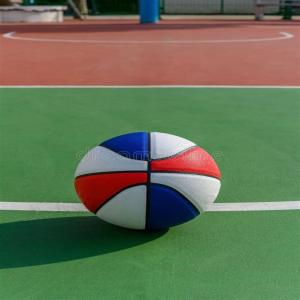Basket: (73, 130, 224, 231)
